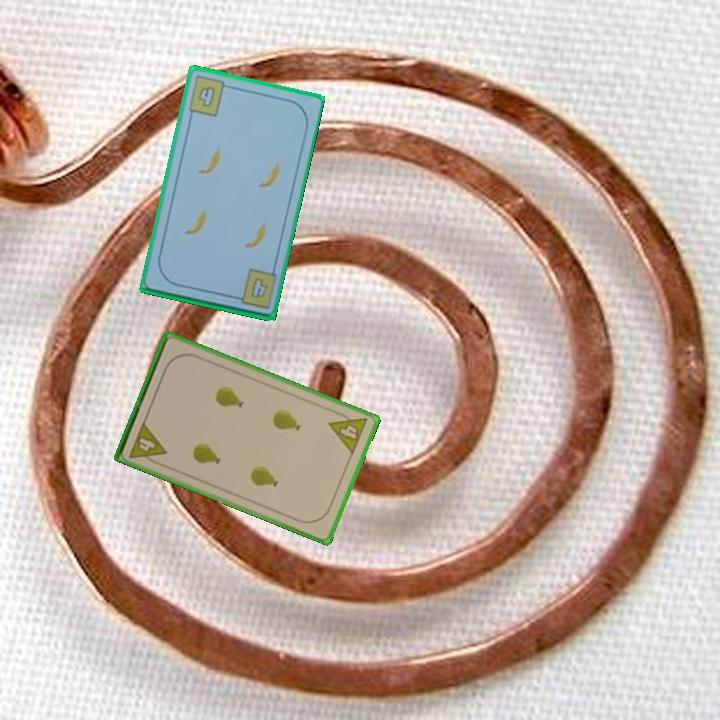4b: (184, 72, 234, 120), (246, 273, 270, 301)
4p: (325, 406, 371, 457), (125, 418, 169, 468)
